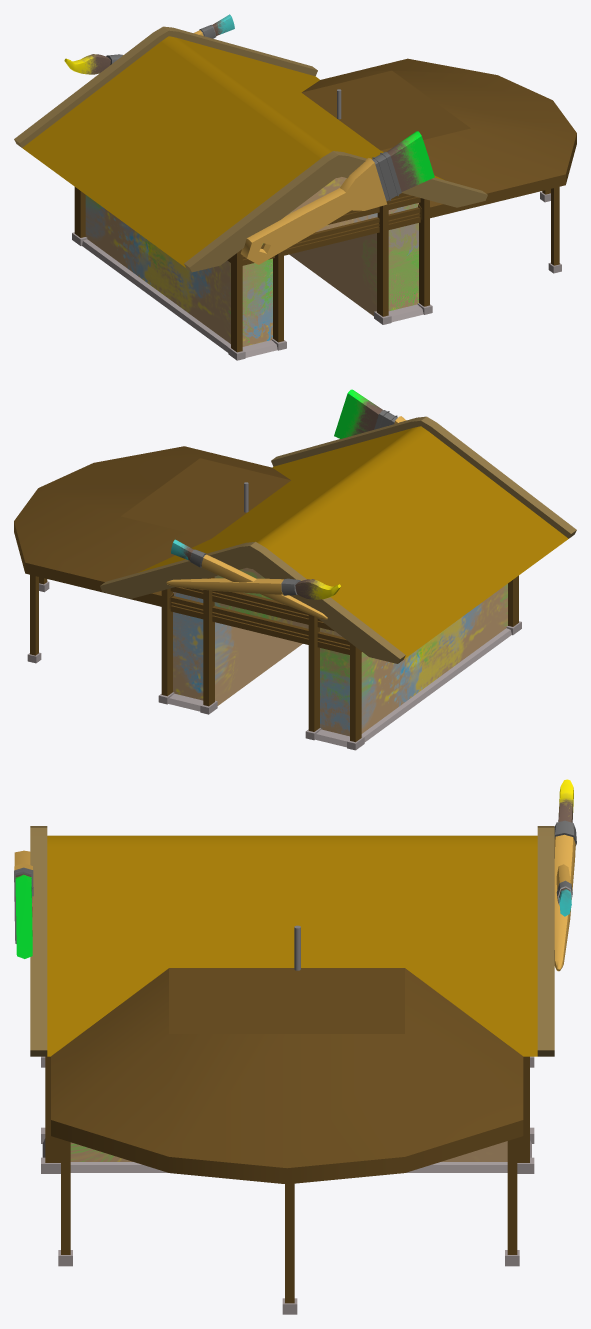
File: paint ye wagon.fbx
The picture shows the model from 3 angles, top to bottom: view 1: azimuth 30°, elevation 25°; view 2: azimuth 150°, elevation 25°; view 3: azimuth 270°, elevation 25°; orthographic projection. The views are drawn at different scales.
Parts seen in each view (by area): view 1: Paint_ye_Wagon1; view 2: Paint_ye_Wagon1; view 3: Paint_ye_Wagon1.
Boxes of the visible parts, bbox=[...] form: Paint_ye_Wagon1: bbox=[14, 14, 576, 360]; Paint_ye_Wagon1: bbox=[14, 389, 576, 750]; Paint_ye_Wagon1: bbox=[14, 779, 576, 1314].
Size of the model in its own units: 24.1 by 9.78 by 17.51.
